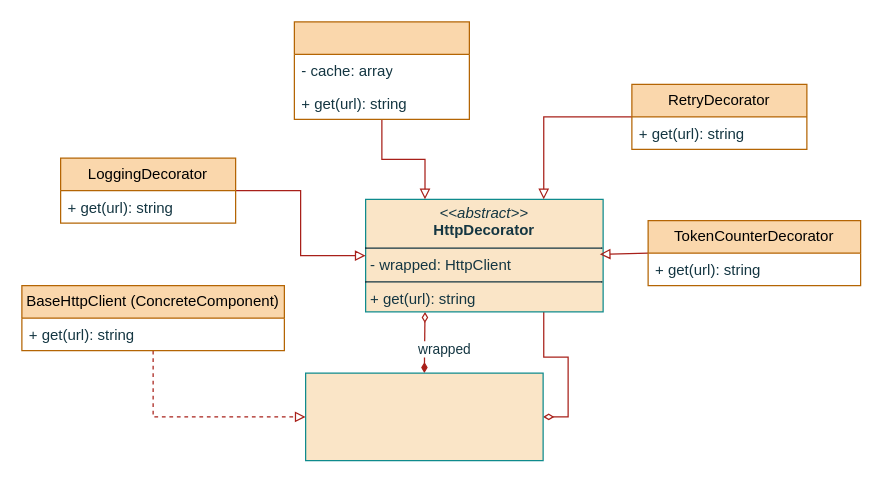
The diagram is 883 pixels wide and 483 high, and some of its shapes have lost their labels. Here are the shapes that lost their labels. From the top down, the box of each, then its label:
(293, 21, 469, 119): CachingDecorator
(304, 372, 543, 461): <<Interface>> HttpClient + get(url): string
